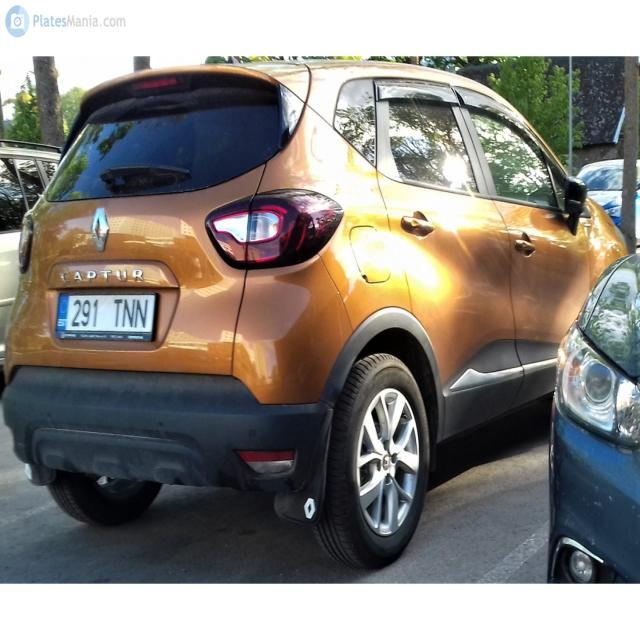License-plate: (54, 290, 156, 340)
